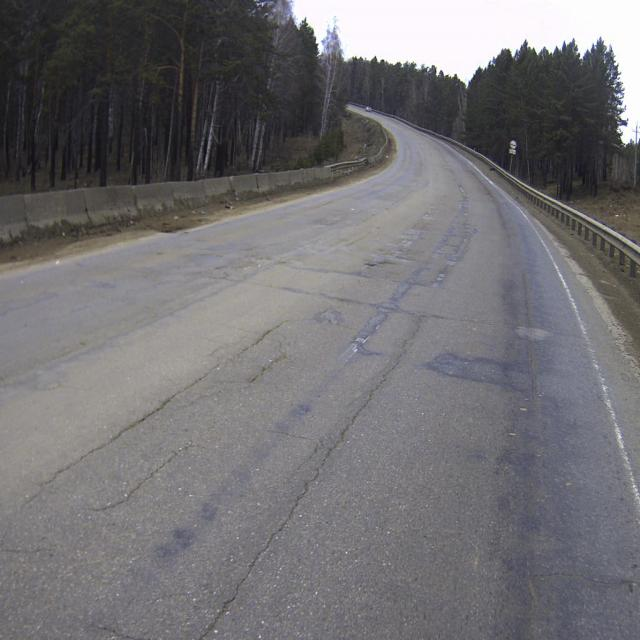road: (0, 105, 640, 639)
